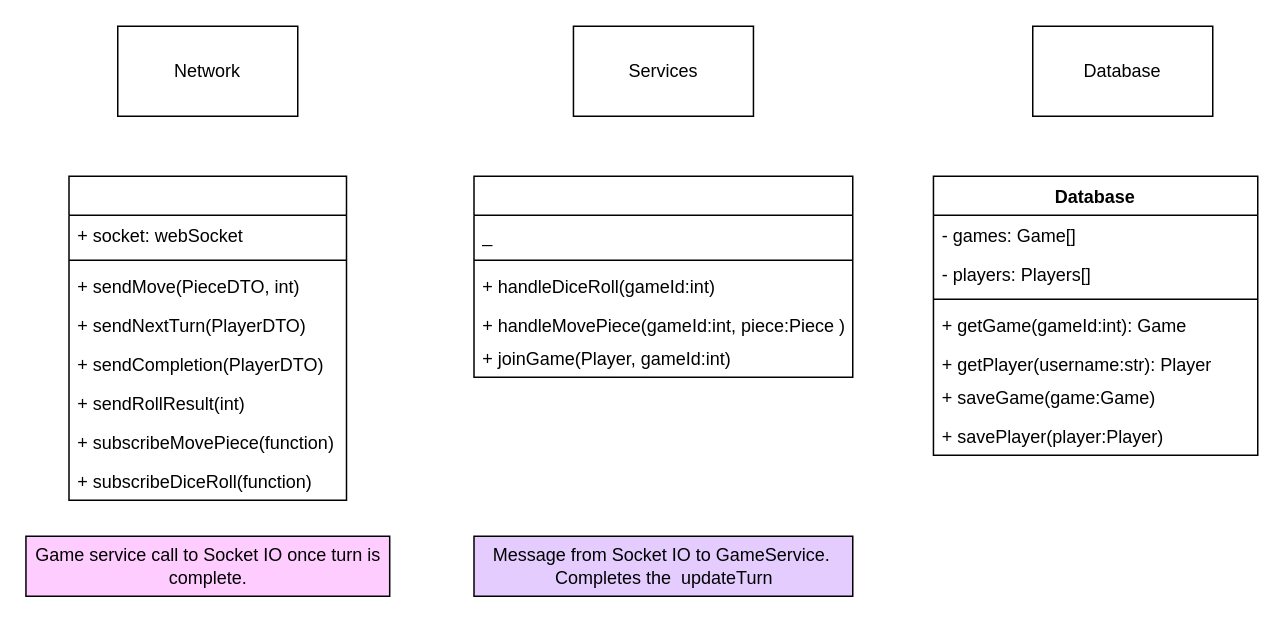
Image size: 1286x623. Some labels were removed from this diagram. The shapes that lost their labels are listed below. From the top down, each one's box as (x1, y1, x2, y2) in pixels, then its label:
(472, 175, 853, 377): GameService
(68, 175, 346, 500): SocketManager
